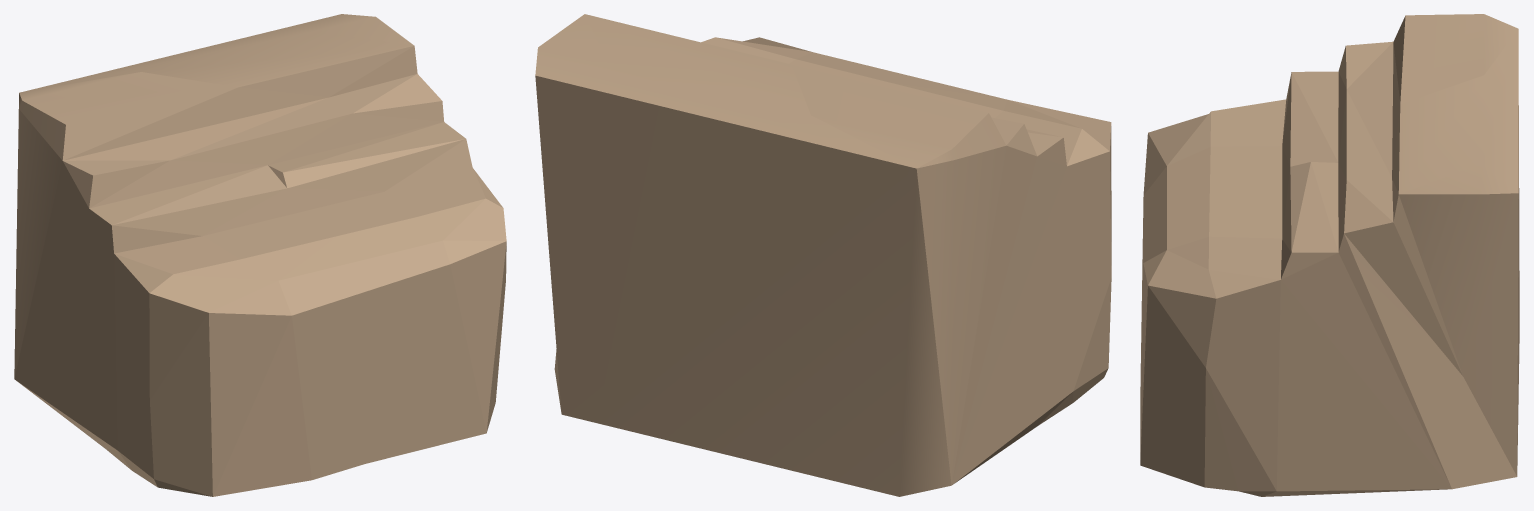
File: SM_Prop_Ruins_Stairs_01.fbx
The picture shows the model from 3 angles, left to right: view 1: azimuth 30°, elevation 25°; view 2: azimuth 150°, elevation 25°; view 3: azimuth 270°, elevation 25°; orthographic projection. The views are drawn at different scales.
Visible parts, largest first — view 1: SM_Prop_Ruins_Stairs_01; view 2: SM_Prop_Ruins_Stairs_01; view 3: SM_Prop_Ruins_Stairs_01.
Part boxes in pixels (x1=…): SM_Prop_Ruins_Stairs_01: x1=14, y1=14, x2=506, y2=496; SM_Prop_Ruins_Stairs_01: x1=535, y1=14, x2=1111, y2=496; SM_Prop_Ruins_Stairs_01: x1=1140, y1=14, x2=1519, y2=496.
Bounding box in the file's own units: 261 × 206 × 230.
